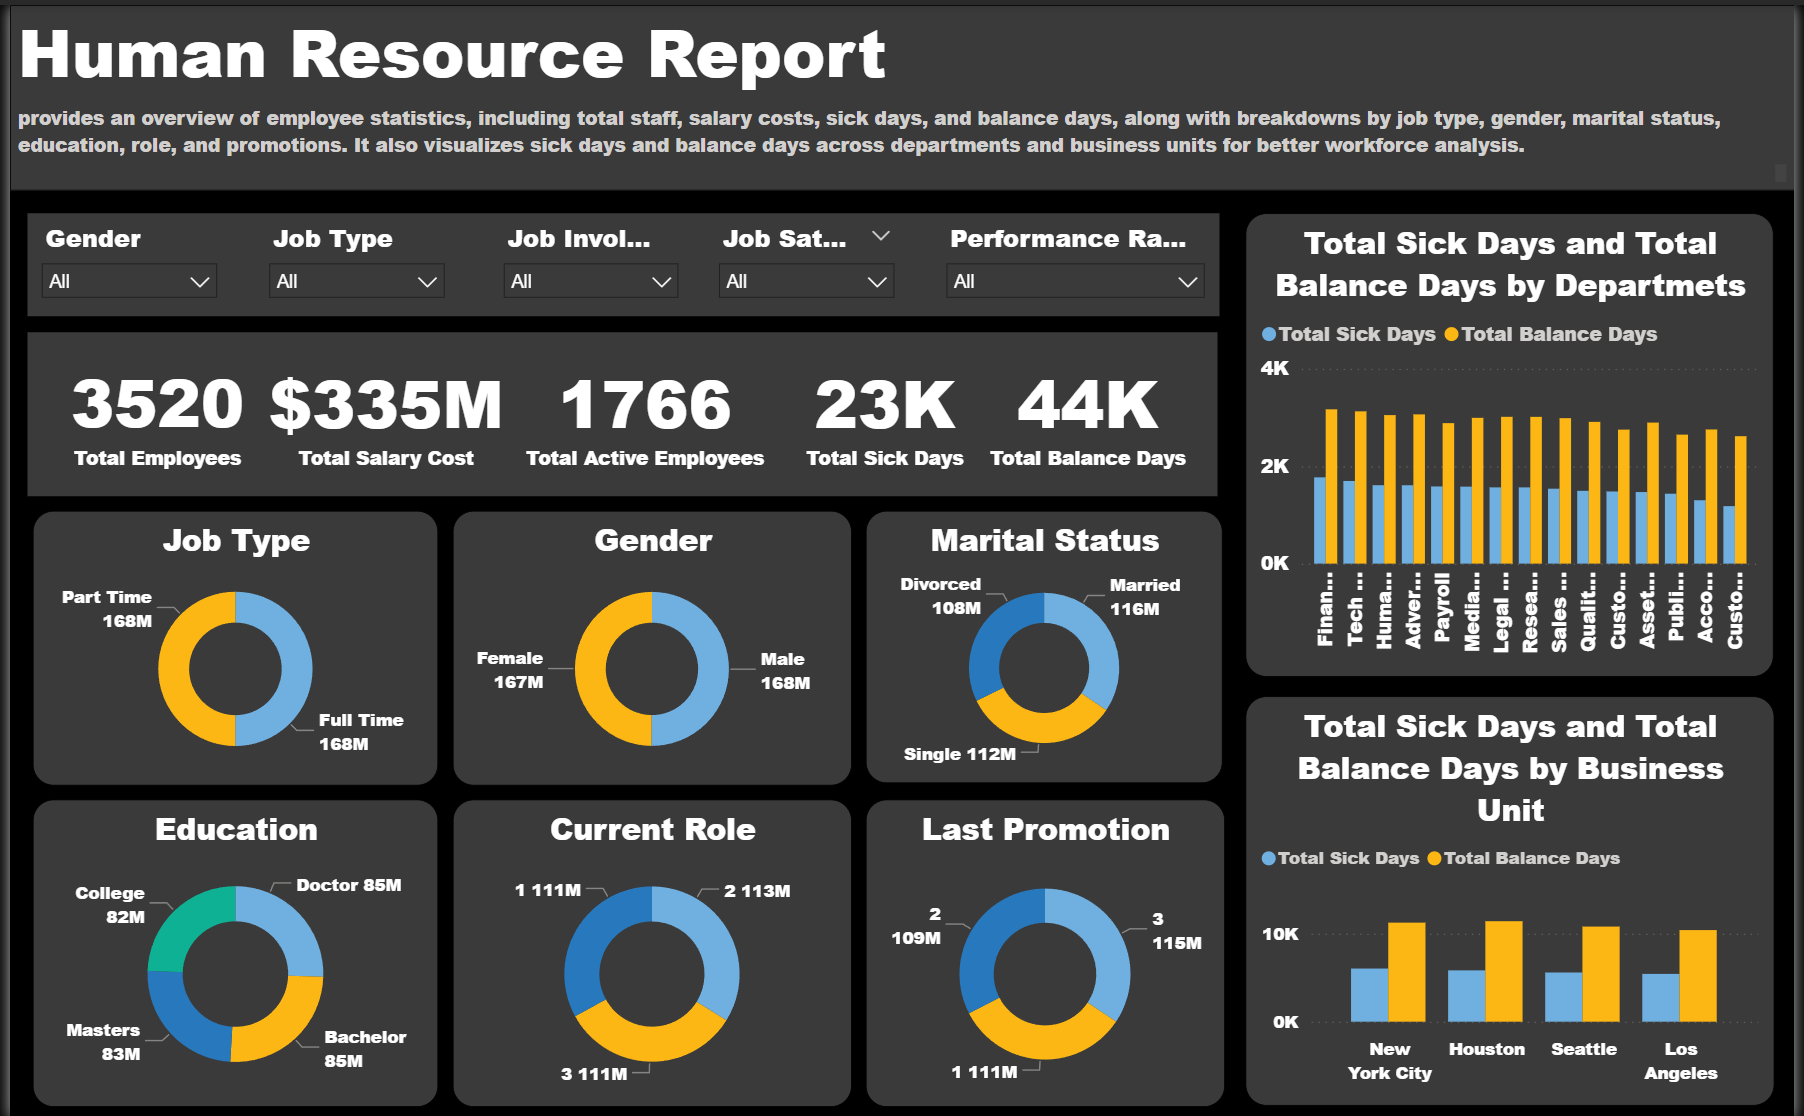

The dashboard page shown, as its layout file describes it:
{"tool":"powerbi","page":{"name":"Salary and Number of Employees","canvas":[1280,800],"ordinal":0},"visuals":[{"type":"card","fields":{"Values":["All Measures.Total Employes"]},"box":[12.6,235.7,186.1,116.5],"z":0,"group":"g1"},{"type":"donutChart","title":"Job Type","fields":{"Y":["All Measures.Measure Logic"],"Category":["Human Resources.Job Type"]},"box":[16.3,362.8,291,196.9],"z":0,"group":"g3"},{"type":"card","fields":{"Values":["All Measures.Total Salary Cost"]},"box":[177.5,235.2,185.3,116.7],"z":1000,"group":"g1"},{"type":"donutChart","title":"Education","fields":{"Y":["All Measures.Measure Logic"],"Category":["Human Resources.Education"]},"box":[16.3,569.4,291,220.5],"z":1000,"group":"g3"},{"type":"textbox","title":"Human Resource Report ","box":[0,0,1280.4,133.1],"z":2000},{"type":"card","fields":{"Values":["All Measures.Total Active Employees"]},"box":[362.8,235.2,185.3,116.7],"z":2000,"group":"g1"},{"type":"card","fields":{"Values":["All Measures.Total Sick Days"]},"box":[534.3,235.2,185.3,116.7],"z":3000,"group":"g1"},{"type":"donutChart","title":"Gender","fields":{"Y":["All Measures.Measure Logic"],"Category":["Human Resources.Gender"]},"box":[317.3,362.8,286.1,196.9],"z":3000,"group":"g3"},{"type":"card","fields":{"Values":["All Measures.Total Balance Days"]},"box":[680.5,235.2,185.3,116.7],"z":4000,"group":"g1"},{"type":"donutChart","title":"Last Promotion","fields":{"Y":["All Measures.Measure Logic"],"Category":["Human Resources.Years since last promition.1"]},"box":[613.3,569.4,257.5,220.5],"z":4000,"group":"g3"},{"type":"donutChart","title":"Marital Status","fields":{"Y":["All Measures.Measure Logic"],"Category":["Human Resources.Marital Status"]},"box":[613.3,362.8,256.2,195.5],"z":5000,"group":"g3"},{"type":"donutChart","title":"Current Role","fields":{"Y":["All Measures.Measure Logic"],"Category":["Human Resources.Years in current role.1"]},"box":[317.3,569.4,286.1,220.5],"z":6000,"group":"g3"},{"type":"group","id":"g1","title":"Group 1","box":[12.6,235.2,853.2,117],"z":7000,"group":"g5"},{"type":"clusteredColumnChart","fields":{"Y":["All Measures.Total Sick Days","All Measures.Total Balance Days"],"Category":["Human Resources.Departmets"]},"box":[885.9,148.9,379.1,332.7],"z":8000,"group":"g4"},{"type":"clusteredColumnChart","fields":{"Y":["All Measures.Total Sick Days","All Measures.Total Balance Days"],"Category":["Human Resources.Business Unit"]},"box":[886.2,495.5,379.3,293.6],"z":9000,"group":"g4"},{"type":"group","id":"g2","title":"Group 4","box":[12.6,149.4,854.5,74.1],"z":10000,"group":"g5"},{"type":"slicer","fields":{"Values":["Human Resources.Gender"]},"box":[12.6,149.8,145.9,74.3],"z":10000,"group":"g2"},{"type":"group","id":"g3","title":"Group 2","box":[16.3,362.8,854.9,426.8],"z":10001},{"type":"group","id":"g4","title":"Group 3","box":[885.9,148.9,379.7,640.2],"z":10002},{"type":"group","id":"g5","title":"Group 5","box":[12.6,149.4,854.9,203.4],"z":10003},{"type":"slicer","fields":{"Values":["Human Resources.Job Type"]},"box":[176.3,149.8,145.9,74.3],"z":11000,"group":"g2"},{"type":"slicer","fields":{"Values":["Human Resources.Job Involvement"]},"box":[344.1,149.4,145.6,74.1],"z":12000,"group":"g2"},{"type":"slicer","fields":{"Values":["Human Resources.Job Satisfaction"]},"box":[498.6,149.8,145.9,74.3],"z":13000,"group":"g2"},{"type":"slicer","fields":{"Values":["Human Resources.Performance Rating"]},"box":[661,149.8,205.6,74.3],"z":14000,"group":"g2"}]}

Visuals, with their boxes in screenshot pixels (x1, y1, x2, y2), scaled from the page's 1280x800 canvas onto the 1804x1116 screenshot:
card - All Measures.Total Employes: <box>18,329,280,491</box>
"Job Type" donutChart: <box>23,506,433,781</box>
card - All Measures.Total Salary Cost: <box>250,328,511,491</box>
"Education" donutChart: <box>23,794,433,1102</box>
"Human Resource Report " textbox: <box>0,0,1803,186</box>
card - All Measures.Total Active Employees: <box>511,328,772,491</box>
card - All Measures.Total Sick Days: <box>753,328,1014,491</box>
"Gender" donutChart: <box>447,506,850,781</box>
card - All Measures.Total Balance Days: <box>959,328,1220,491</box>
"Last Promotion" donutChart: <box>864,794,1227,1102</box>
"Marital Status" donutChart: <box>864,506,1225,779</box>
"Current Role" donutChart: <box>447,794,850,1102</box>
"Group 1" group: <box>18,328,1220,491</box>
clusteredColumnChart - All Measures.Total Sick Days x All Measures.Total Balance Days: <box>1249,208,1783,672</box>
clusteredColumnChart - All Measures.Total Sick Days x All Measures.Total Balance Days: <box>1249,691,1784,1101</box>
"Group 4" group: <box>18,208,1222,312</box>
slicer - Human Resources.Gender: <box>18,209,223,313</box>
"Group 2" group: <box>23,506,1228,1101</box>
"Group 3" group: <box>1249,208,1784,1101</box>
"Group 5" group: <box>18,208,1223,492</box>
slicer - Human Resources.Job Type: <box>248,209,454,313</box>
slicer - Human Resources.Job Involvement: <box>485,208,690,312</box>
slicer - Human Resources.Job Satisfaction: <box>703,209,908,313</box>
slicer - Human Resources.Performance Rating: <box>932,209,1221,313</box>
